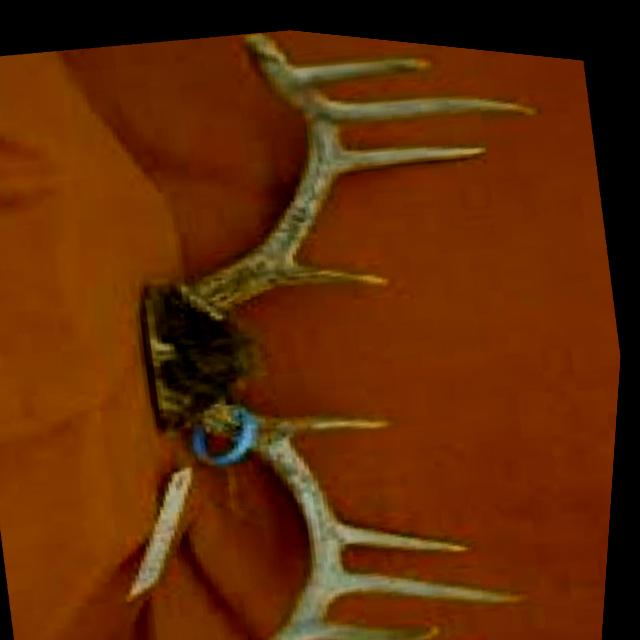L-F: (185, 27, 341, 309)
L-G1: (272, 254, 395, 283)
L-G2: (341, 136, 490, 168)
L-G3: (329, 85, 540, 117)
L-G4: (291, 47, 435, 77)
R-G1: (283, 405, 401, 431)
R-G2: (344, 511, 483, 543)
R-G3: (340, 559, 538, 595)
R-G4: (308, 609, 449, 639)
